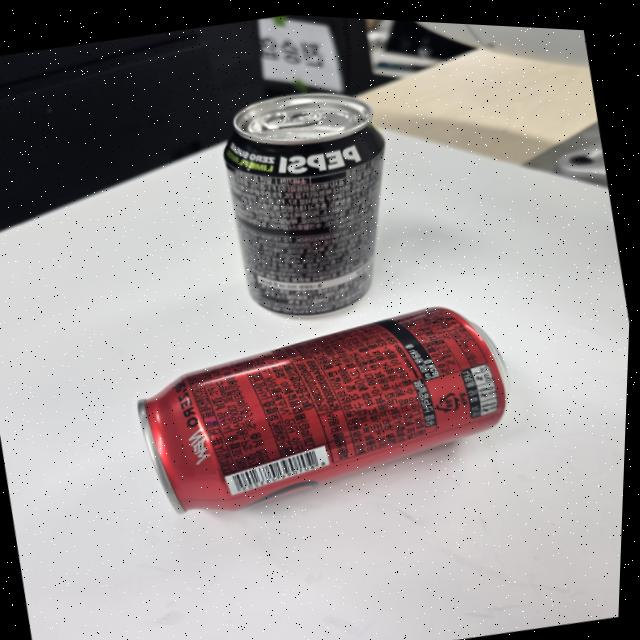can_coke_zero: (140, 303, 512, 515)
can_pepsi_zero: (224, 96, 386, 314)
